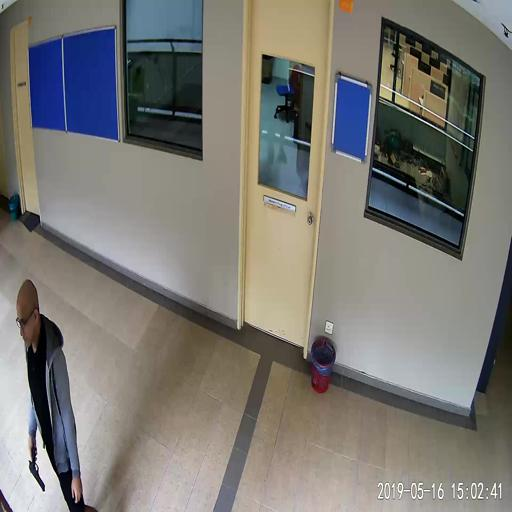pistol: (27, 446, 44, 491)
